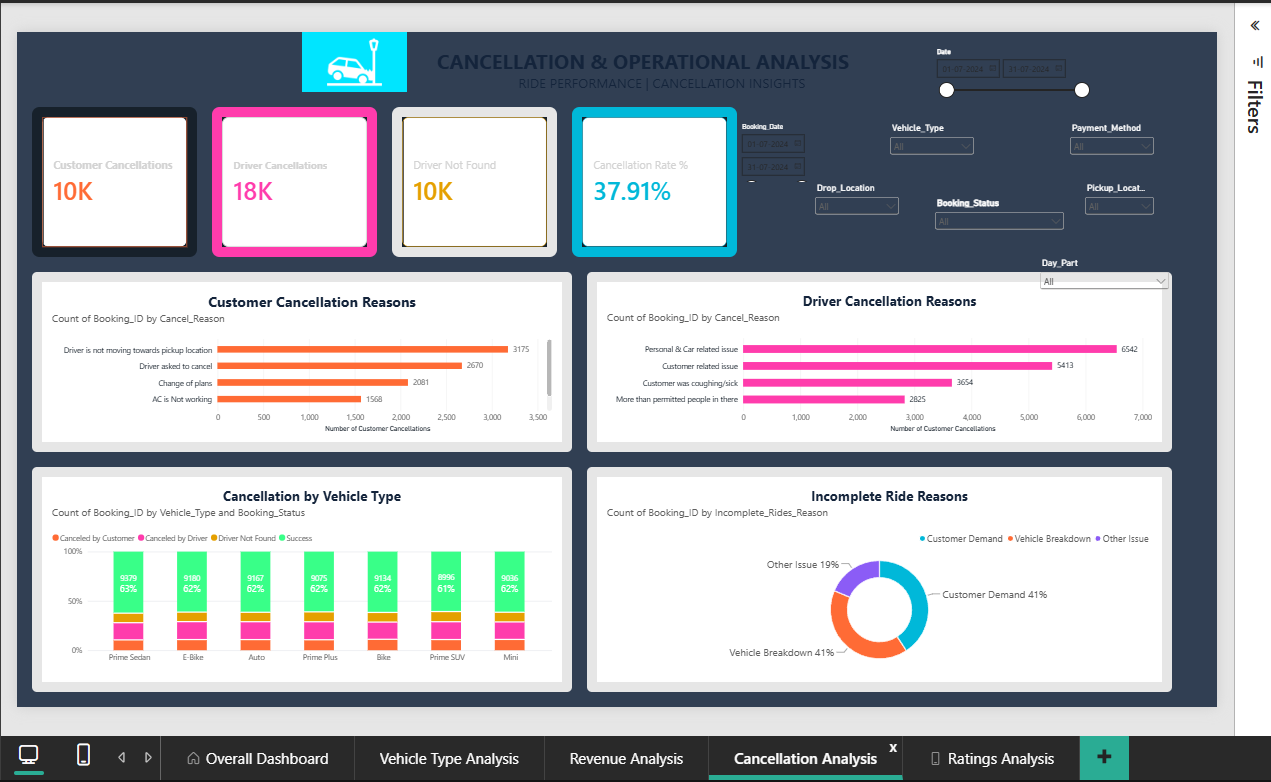

This screenshot's page, from the dashboard's own definition file:
{"tool":"powerbi","page":{"name":"Cancellation Analysis","canvas":[1920,1080],"ordinal":3},"visuals":[{"type":"textbox","box":[672,24,720,72],"z":0},{"type":"image","box":[456,0,168,96],"z":1000},{"type":"cardVisual","fields":{"Data":["ola_ride_insights ola_rides.Customer Cancellations"]},"box":[24,120,264,240],"z":2000},{"type":"cardVisual","fields":{"Data":["ola_ride_insights ola_rides.Driver Cancellations"]},"box":[312,120,264,240],"z":3000},{"type":"cardVisual","fields":{"Data":["ola_ride_insights ola_rides.Driver Not Found"]},"box":[600,120,264,240],"z":4000},{"type":"cardVisual","fields":{"Data":["ola_ride_insights ola_rides.Cancellation Rate %"]},"box":[888,120,264,240],"z":5000},{"type":"clusteredBarChart","title":"Customer Cancellation Reasons","fields":{"Category":["ola_ride_insights ola_rides.Cancel_Reason"],"Y":["CountNonNull(ola_ride_insights ola_rides.Booking_ID)"]},"box":[24,384,864,288],"z":6000},{"type":"clusteredBarChart","title":"Driver Cancellation Reasons","fields":{"Category":["ola_ride_insights ola_rides.Cancel_Reason"],"Y":["CountNonNull(ola_ride_insights ola_rides.Booking_ID)"]},"box":[912,384,936,288],"z":7000},{"type":"hundredPercentStackedColumnChart","title":"Cancellation by Vehicle Type","fields":{"Category":["ola_ride_insights ola_rides.Vehicle_Type"],"Series":["ola_ride_insights ola_rides.Booking_Status"],"Y":["CountNonNull(ola_ride_insights ola_rides.Booking_ID)"]},"box":[24,696,864,360],"z":8000},{"type":"donutChart","title":"Incomplete Ride Reasons","fields":{"Category":["ola_ride_insights ola_rides.Incomplete_Rides_Reason"],"Y":["CountNonNull(ola_ride_insights ola_rides.Booking_ID)"]},"box":[912,696,936,360],"z":9000},{"type":"slicer","fields":{"Values":["ola_ride_insights ola_rides.Booking_Date"]},"box":[1152,144,120,96],"z":10000},{"type":"slicer","fields":{"Values":["ola_ride_insights ola_rides.Vehicle_Type"]},"box":[1392,144,144,96],"z":11000},{"type":"slicer","fields":{"Values":["ola_ride_insights ola_rides.Payment_Method"]},"box":[1680,144,144,96],"z":12000},{"type":"slicer","fields":{"Values":["ola_ride_insights ola_rides.Pickup_Location"]},"box":[1704,240,120,96],"z":13000},{"type":"slicer","fields":{"Values":["ola_ride_insights ola_rides.Drop_Location"]},"box":[1272,240,144,96],"z":13001},{"type":"slicer","fields":{"Values":["Calendar.Date"]},"box":[1464,24,256,112],"z":13002},{"type":"slicer","fields":{"Values":["ola_ride_insights ola_rides.Booking_Status"]},"box":[1464,264,216,72],"z":13003},{"type":"slicer","fields":{"Values":["ola_ride_insights ola_rides.Day_Part"]},"box":[1632,360,216,72],"z":13004}]}

Visuals, with their boxes on the page's 1920x1080 design canvas (x1, y1, x2, y2). These are canvas units, not pixel positions in the 1271x782 screenshot, which may show the page scaled, cropped or inside an application window:
textbox: [672,24,1392,96]
image: [456,0,624,96]
cardVisual - ola_ride_insights ola_rides.Customer Cancellations: [24,120,288,360]
cardVisual - ola_ride_insights ola_rides.Driver Cancellations: [312,120,576,360]
cardVisual - ola_ride_insights ola_rides.Driver Not Found: [600,120,864,360]
cardVisual - ola_ride_insights ola_rides.Cancellation Rate %: [888,120,1152,360]
"Customer Cancellation Reasons" clusteredBarChart: [24,384,888,672]
"Driver Cancellation Reasons" clusteredBarChart: [912,384,1848,672]
"Cancellation by Vehicle Type" hundredPercentStackedColumnChart: [24,696,888,1056]
"Incomplete Ride Reasons" donutChart: [912,696,1848,1056]
slicer - ola_ride_insights ola_rides.Booking_Date: [1152,144,1272,240]
slicer - ola_ride_insights ola_rides.Vehicle_Type: [1392,144,1536,240]
slicer - ola_ride_insights ola_rides.Payment_Method: [1680,144,1824,240]
slicer - ola_ride_insights ola_rides.Pickup_Location: [1704,240,1824,336]
slicer - ola_ride_insights ola_rides.Drop_Location: [1272,240,1416,336]
slicer - Calendar.Date: [1464,24,1720,136]
slicer - ola_ride_insights ola_rides.Booking_Status: [1464,264,1680,336]
slicer - ola_ride_insights ola_rides.Day_Part: [1632,360,1848,432]
